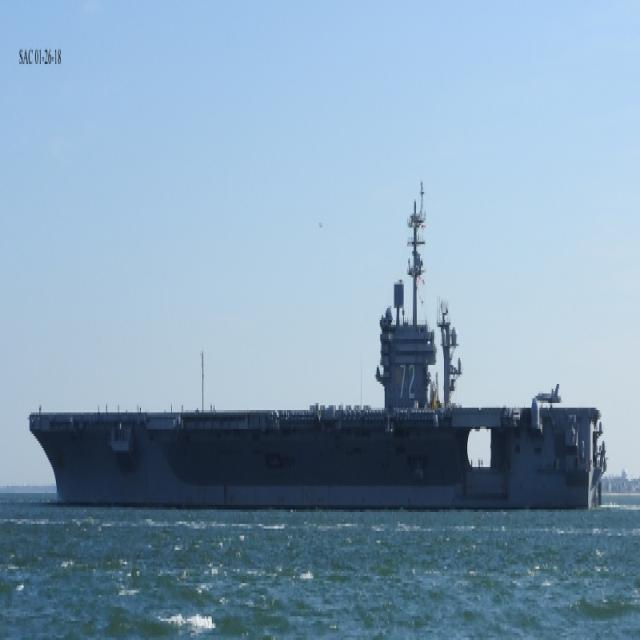Portanaves: (27, 169, 610, 520)
